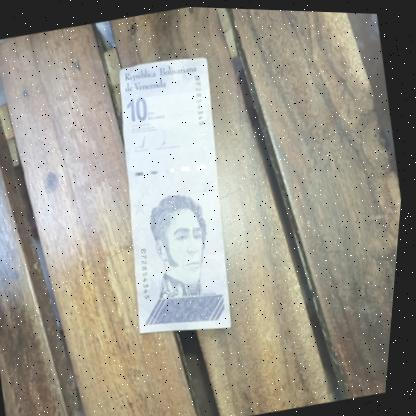ten-front-vef: (87, 47, 266, 345)
